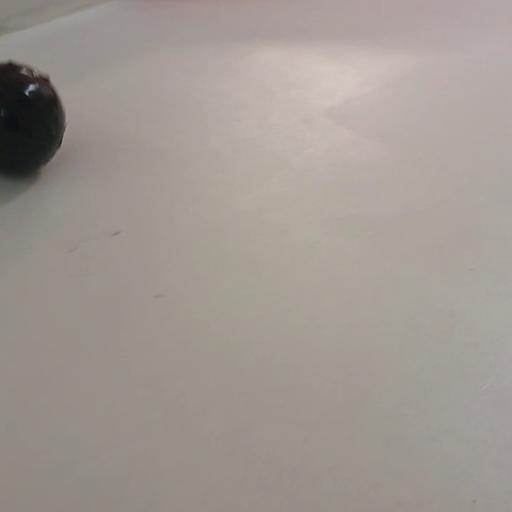dead: (1, 62, 66, 176)
